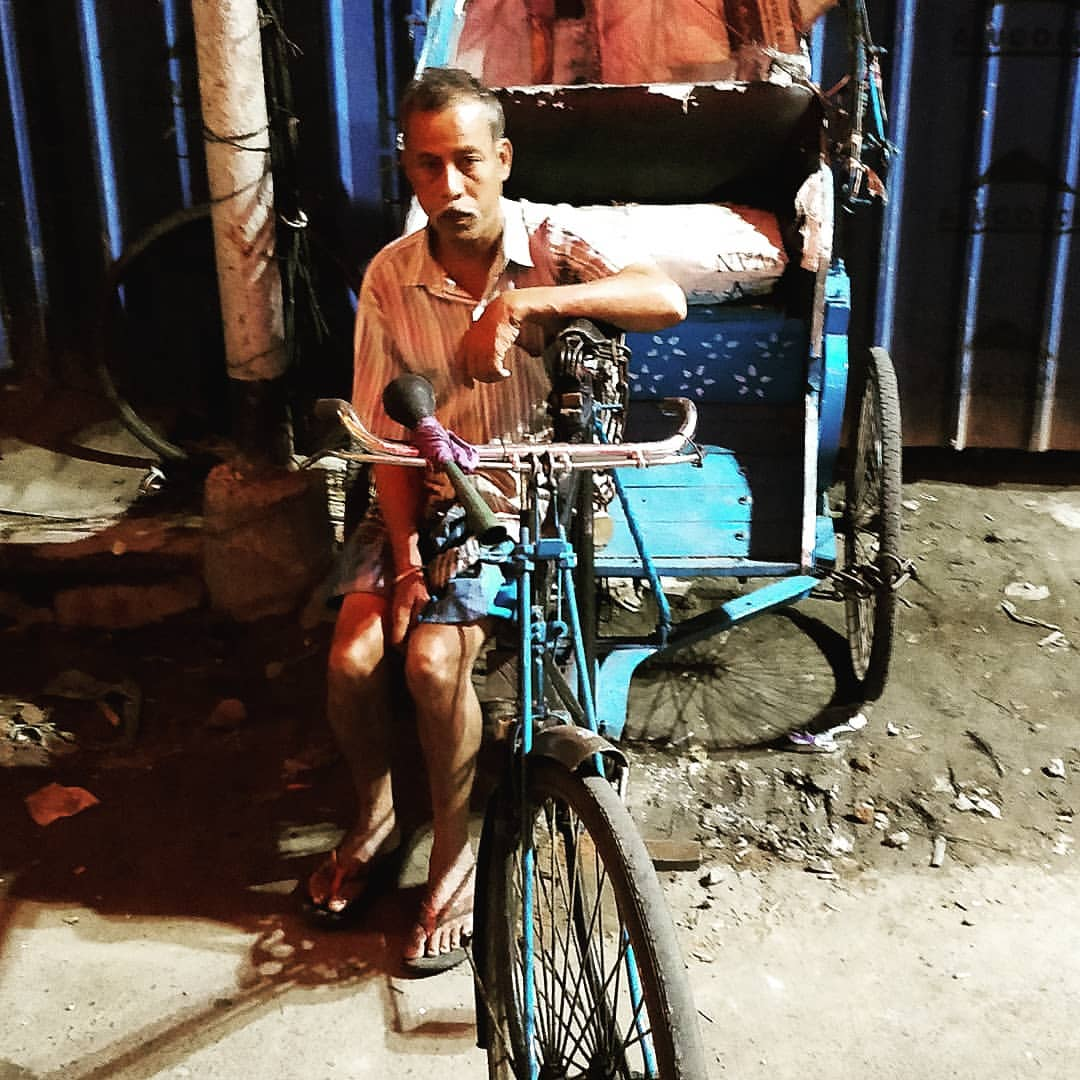Rickshaw: (366, 9, 902, 1074)
